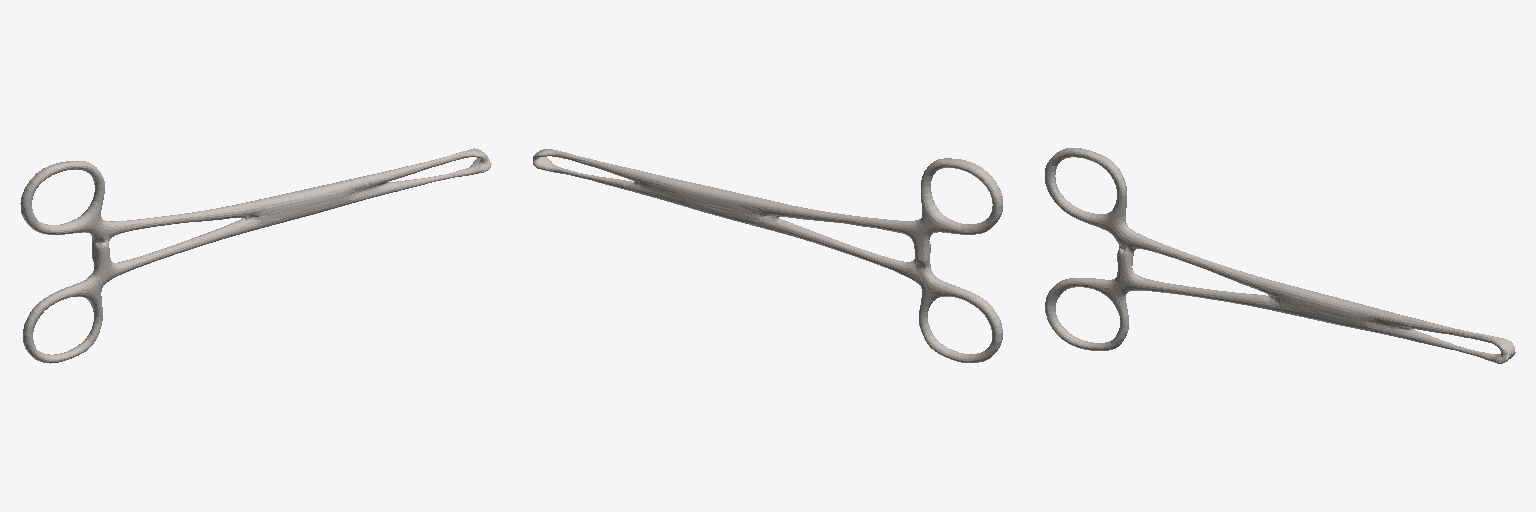
The robot description file, URDF, robot "Tooling_12":
<?xml version="1.0" encoding="utf-8"?>
<!-- This URDF was automatically created by SolidWorks to URDF Exporter! Originally created by Stephen Brawner (brawner@gmail.com)
     Commit Version: 1.6.0-4-g7f85cfe  Build Version: 1.6.7995.38578
     For more information, please see http://wiki.ros.org/sw_urdf_exporter -->
<robot
  name="Tooling_12">
  <link
    name="base_link">
    <inertial>
      <origin
        xyz="5.9338E-05 0.00062642 -0.00016344"
        rpy="0 0 0" />
      <mass
        value="0.052305" />
      <inertia
        ixx="9.5114E-06"
        ixy="1.5459E-06"
        ixz="8.1667E-09"
        iyy="0.00012792"
        iyz="-3.6001E-08"
        izz="0.00013728" />
    </inertial>
    <visual>
      <origin
        xyz="0 0 0"
        rpy="0 0 0" />
      <geometry>
        <mesh
          filename="../meshes/base_link.STL" />
      </geometry>
      <material
        name="">
        <color
          rgba="0.77647 0.75686 0.73725 1" />
      </material>
    </visual>
    <collision>
      <origin
        xyz="0 0 0"
        rpy="0 0 0" />
      <geometry>
        <mesh
          filename="../meshes/base_link.STL" />
      </geometry>
    </collision>
  </link>
</robot>

--- Facts derived from the render (not from the file) ---
3 views of the same robot in one strip: view 1: azimuth 30°, elevation 25°; view 2: azimuth 150°, elevation 25°; view 3: azimuth 330°, elevation 25° (orthographic).
Robot: Tooling_12 — 1 links, 0 joints (none); root link base_link; default pose: all joints at 0.
Visible links, largest first — view 1: base_link; view 2: base_link; view 3: base_link.
Link boxes in pixels (x1,y1,x2,y2): base_link: [20, 148, 491, 363]; base_link: [533, 149, 1002, 362]; base_link: [1045, 148, 1515, 363].
Size in the robot's own frame: 0.1818 by 0.0073 by 0.0742 metres.
1 mesh visuals loaded from 1 distinct referenced files (1 binary STL).
